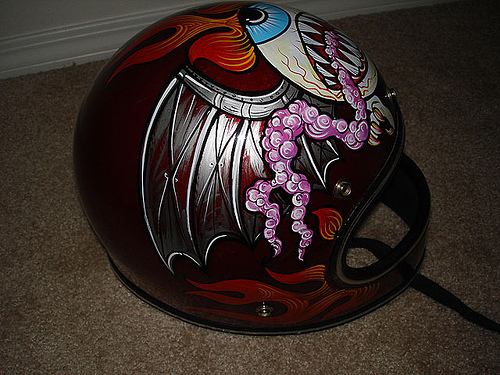helmet: (92, 20, 437, 303)
